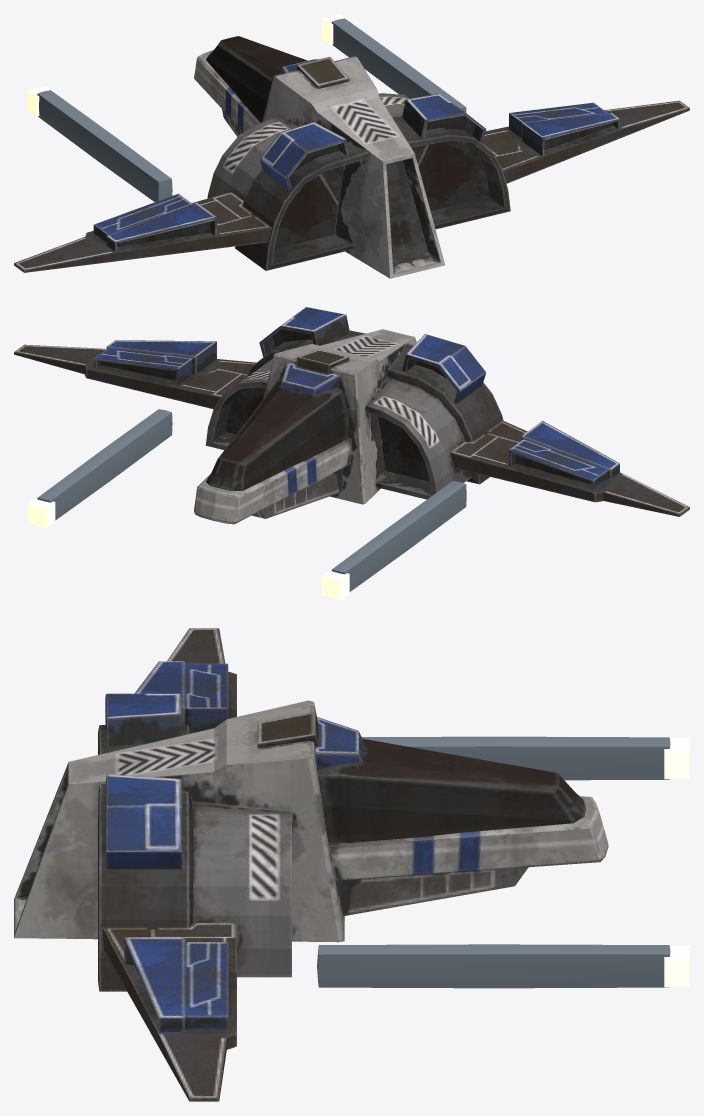
Rendered from enemy_interceptor.glb.
3 renders of one model, top to bottom at view 1: azimuth 30°, elevation 25°; view 2: azimuth 150°, elevation 25°; view 3: azimuth 270°, elevation 25°, orthographic. The views are drawn at different scales.
Visible parts, largest first — view 1: enemy_interceptor; view 2: enemy_interceptor; view 3: enemy_interceptor.
Part boxes in pixels (x1,y1,x2,y2): enemy_interceptor: [14, 14, 689, 278]; enemy_interceptor: [14, 307, 689, 599]; enemy_interceptor: [14, 628, 689, 1101].
Bounding box in the file's own units: 1.95 × 0.3771 × 1.18.
3 materials, 1 textured.
